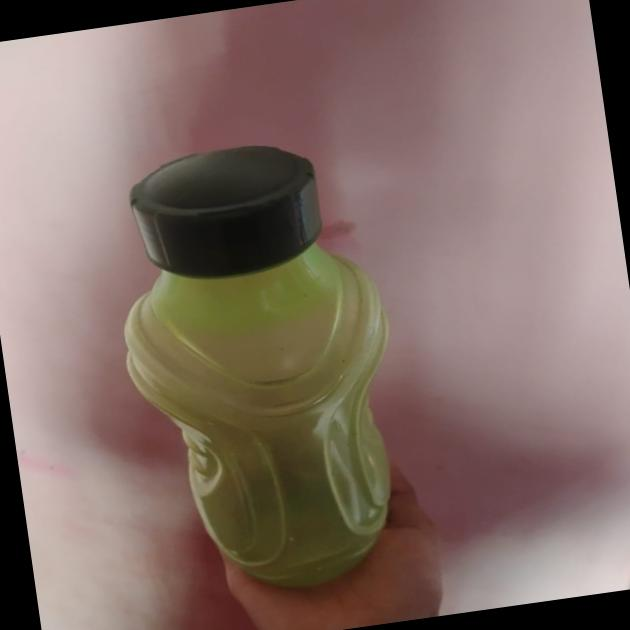waterbottle: (96, 132, 395, 614)
